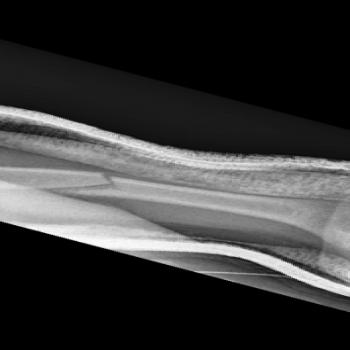Fracture: (25, 170, 130, 196)
